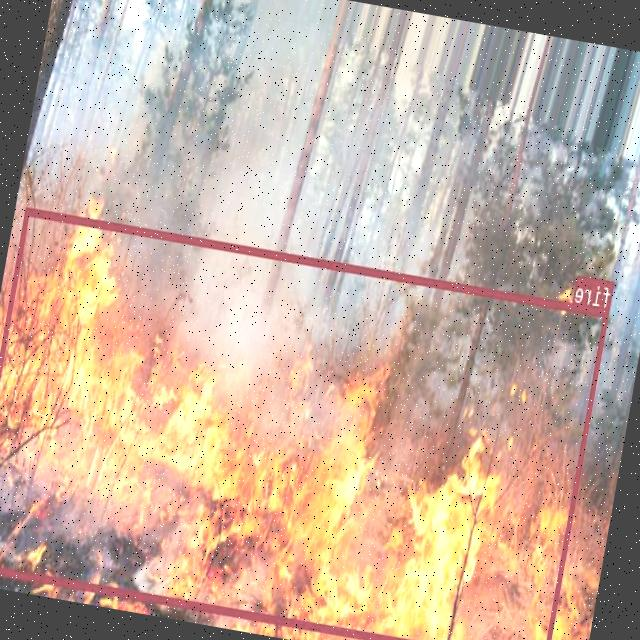fire: (0, 206, 610, 640)
